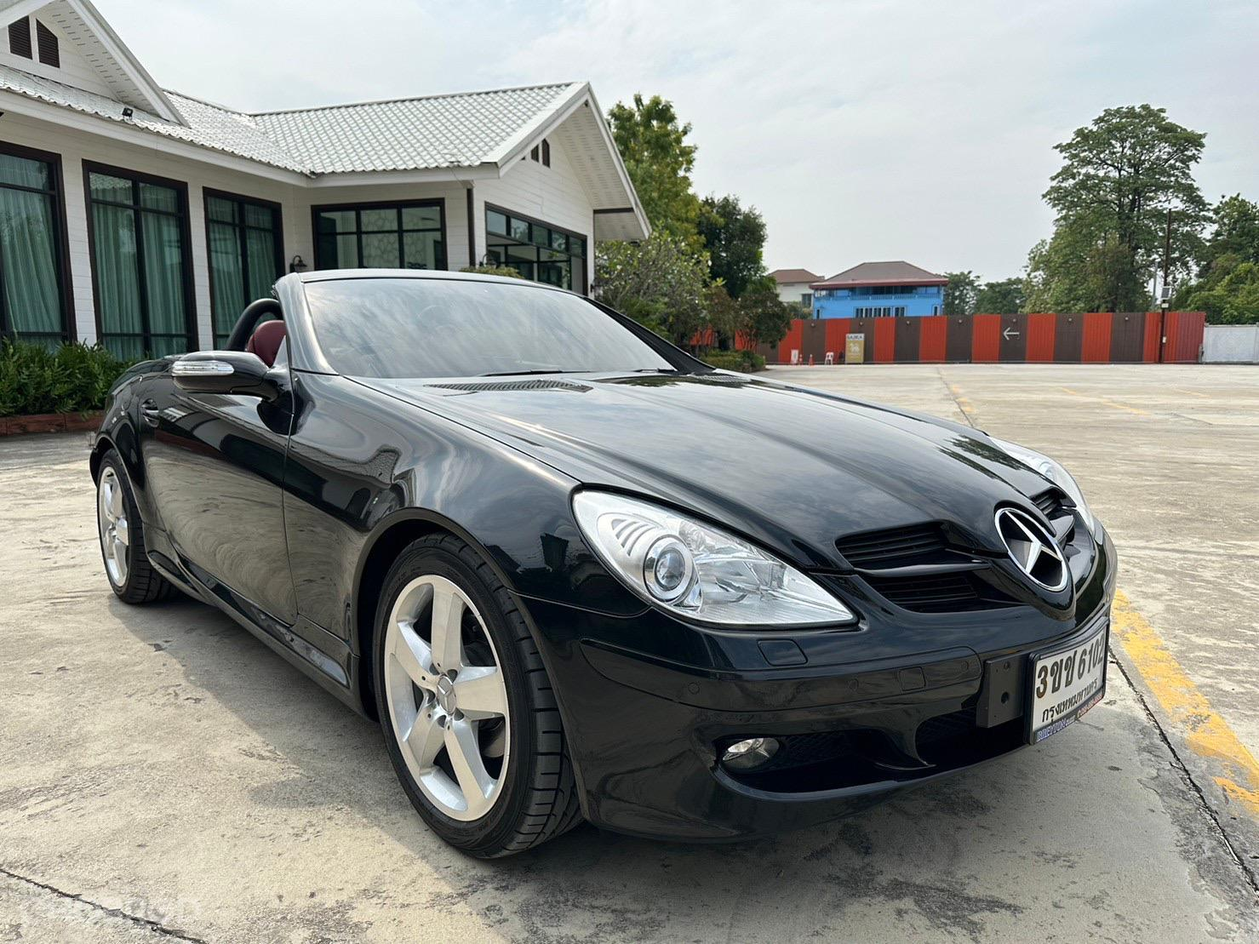license-plate: (1015, 602, 1137, 752)
